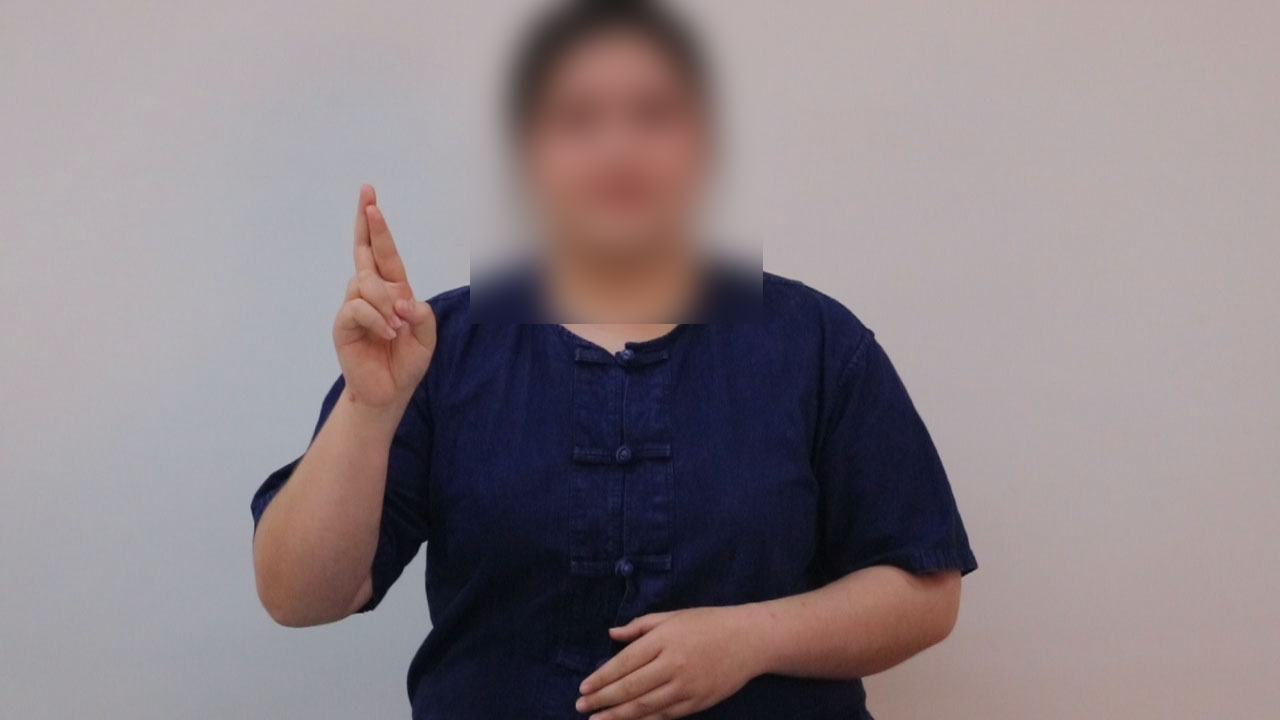rao: (303, 178, 447, 435)
